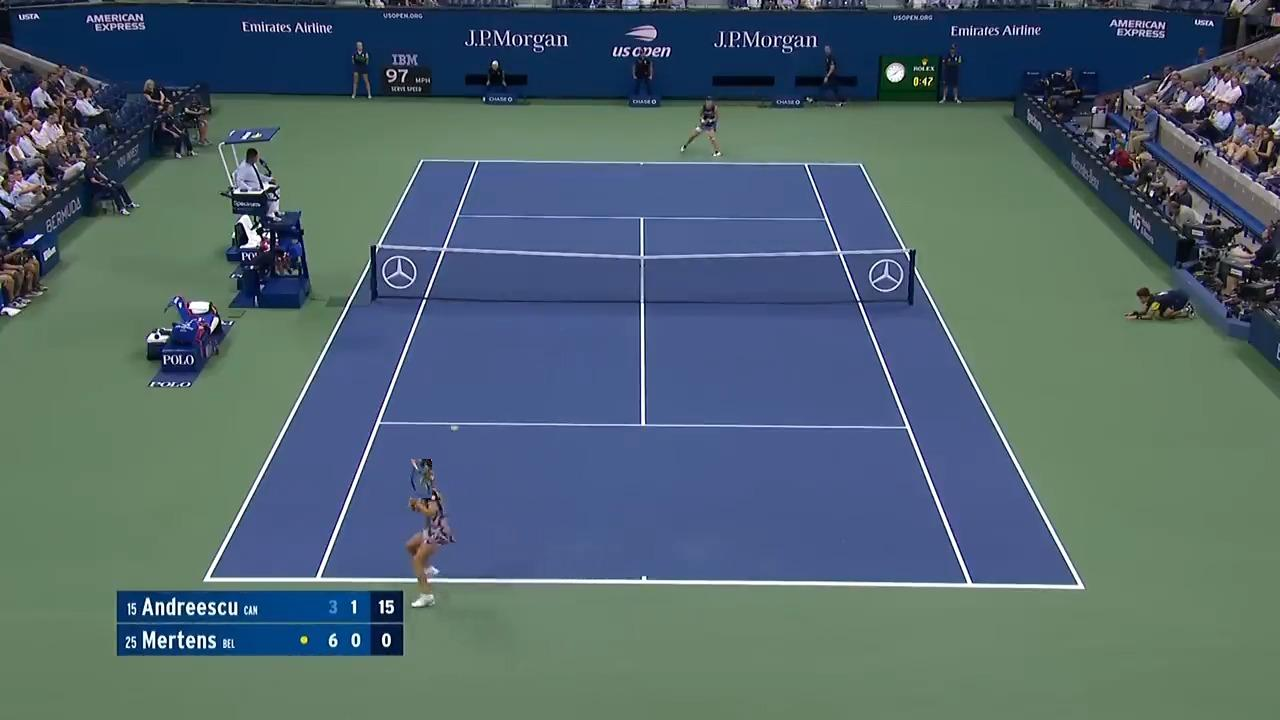tennis ball: (447, 424, 460, 432)
tennis racket: (411, 459, 432, 498)
